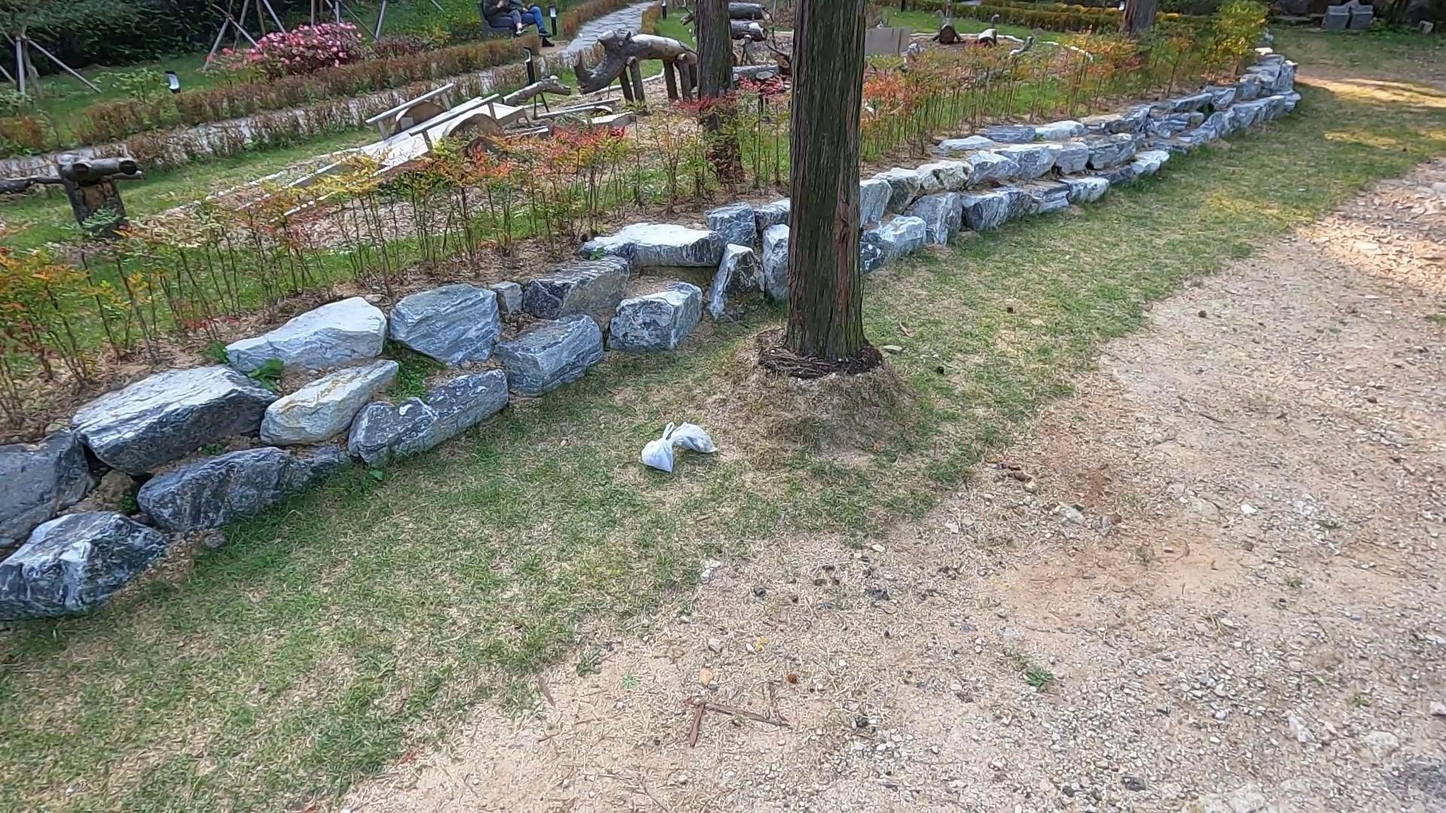trash: (668, 420, 719, 460), (638, 420, 674, 466)
